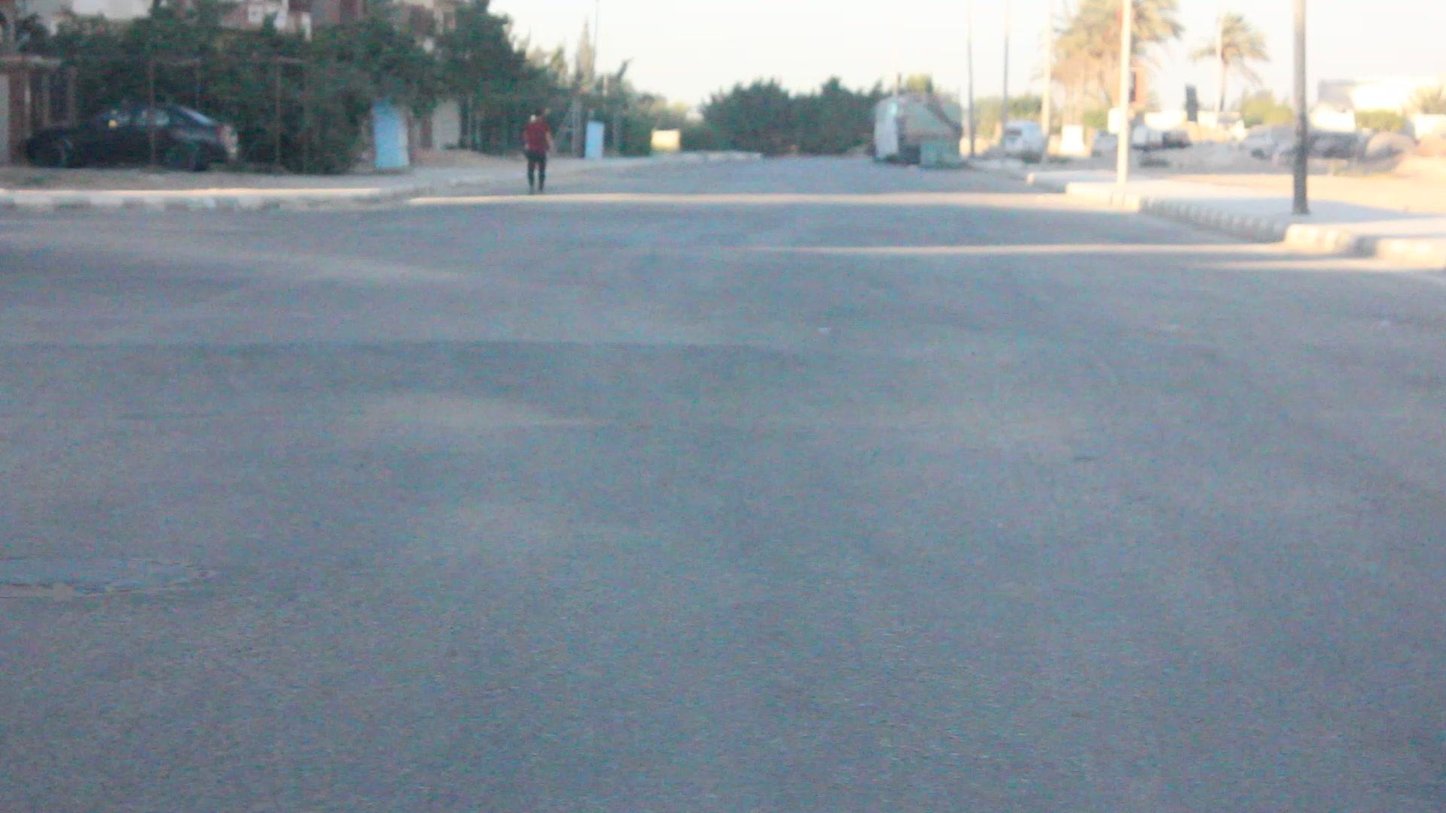Bump: (4, 314, 1446, 422)
